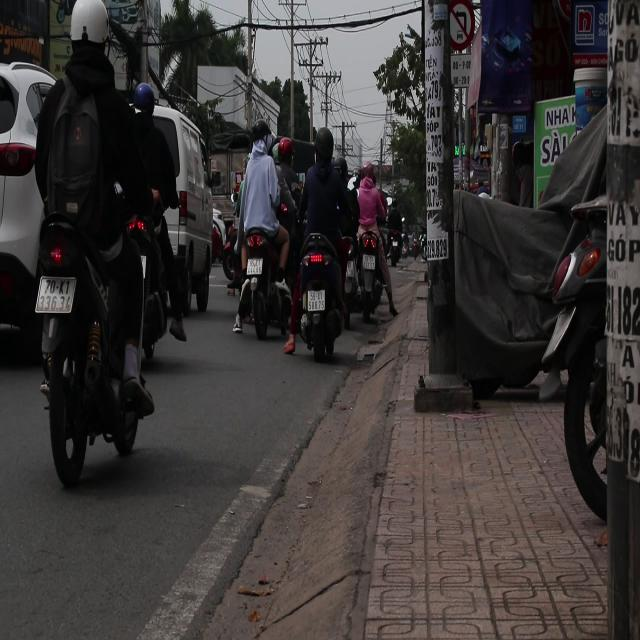car: (113, 110, 225, 319)
motorbike: (27, 175, 156, 485), (292, 236, 348, 363), (235, 222, 293, 343), (352, 217, 393, 333)
